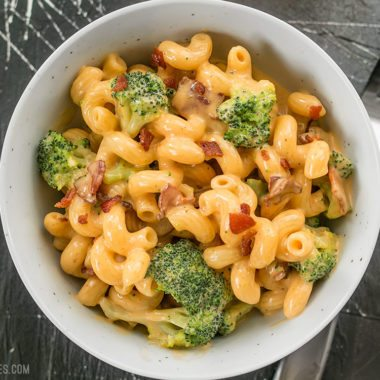macncheese: (36, 15, 354, 335)
